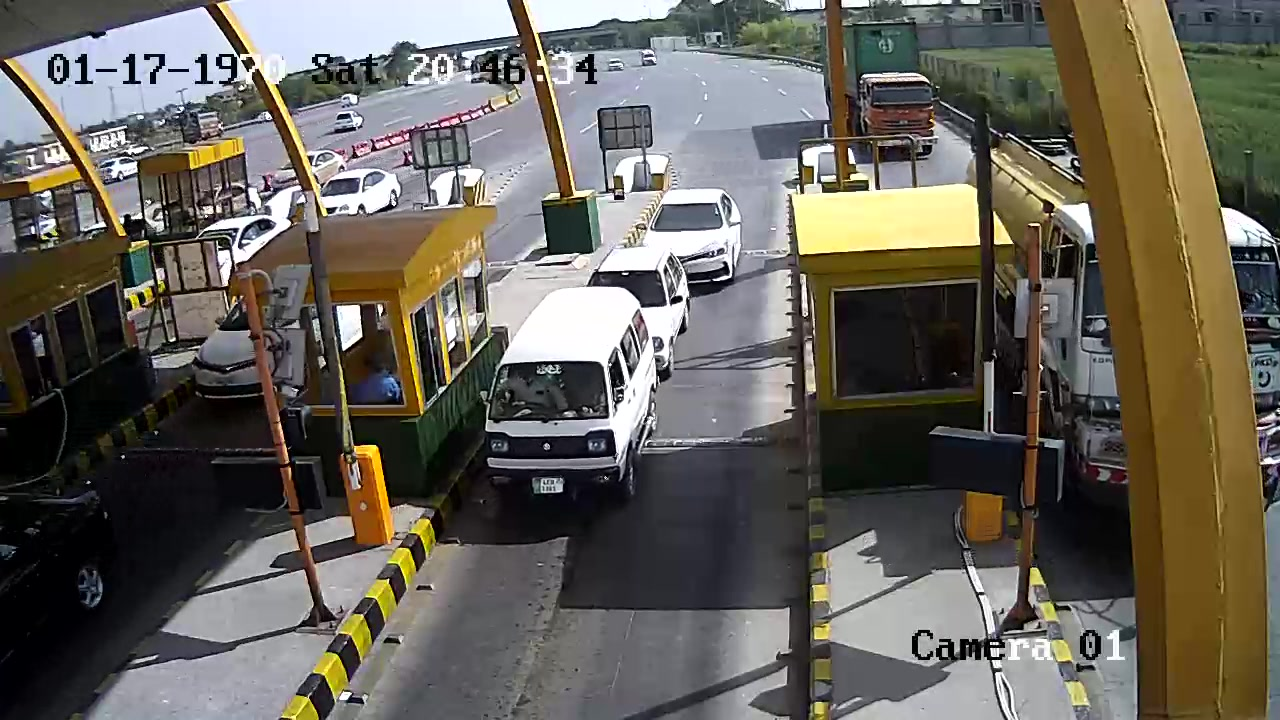F1: (470, 283, 654, 517)
